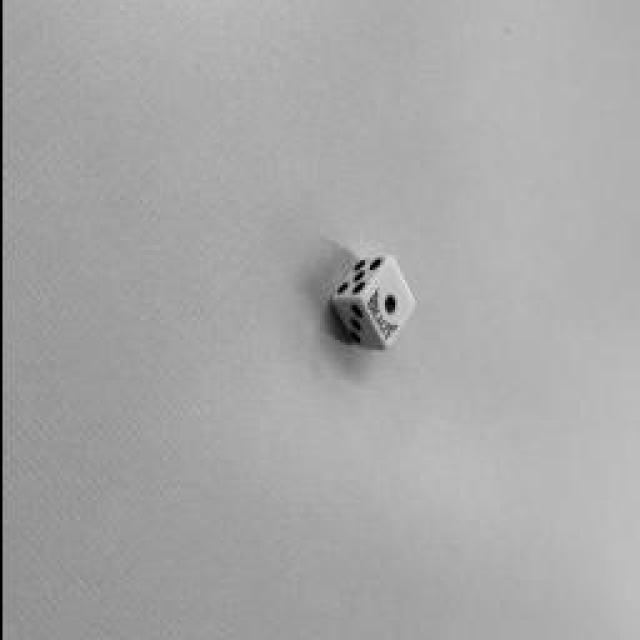dice_1: (358, 258, 412, 348)
